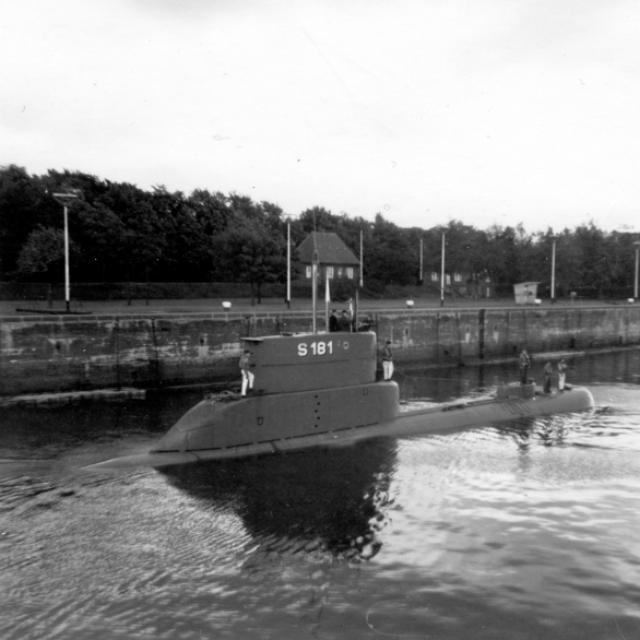submarine: (89, 331, 608, 469)
